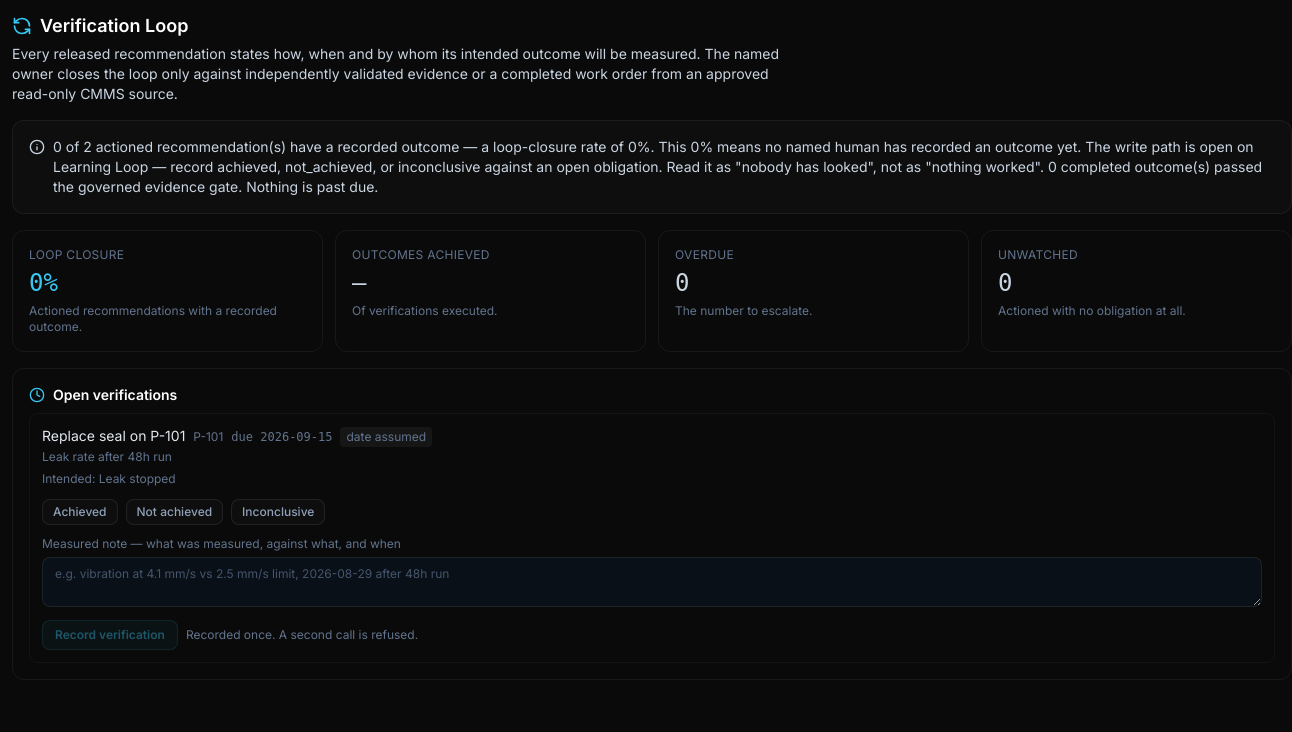
it: VerificationLoop — named-human recorder › enables submit only when both a result and a measured note are set
Check: the text "Replace seal on P-101" is shown, box [42,426,185,446]
Check: the button "Record verification" is disabled, box [42,620,178,650]
Replace the text in the text box with placeholder "vibration at 4.1 mm/s" with "vibration 2.1 mm/s vs 3.0 limit, 2026-08-29" at (652, 582), box [42,556,1262,606]
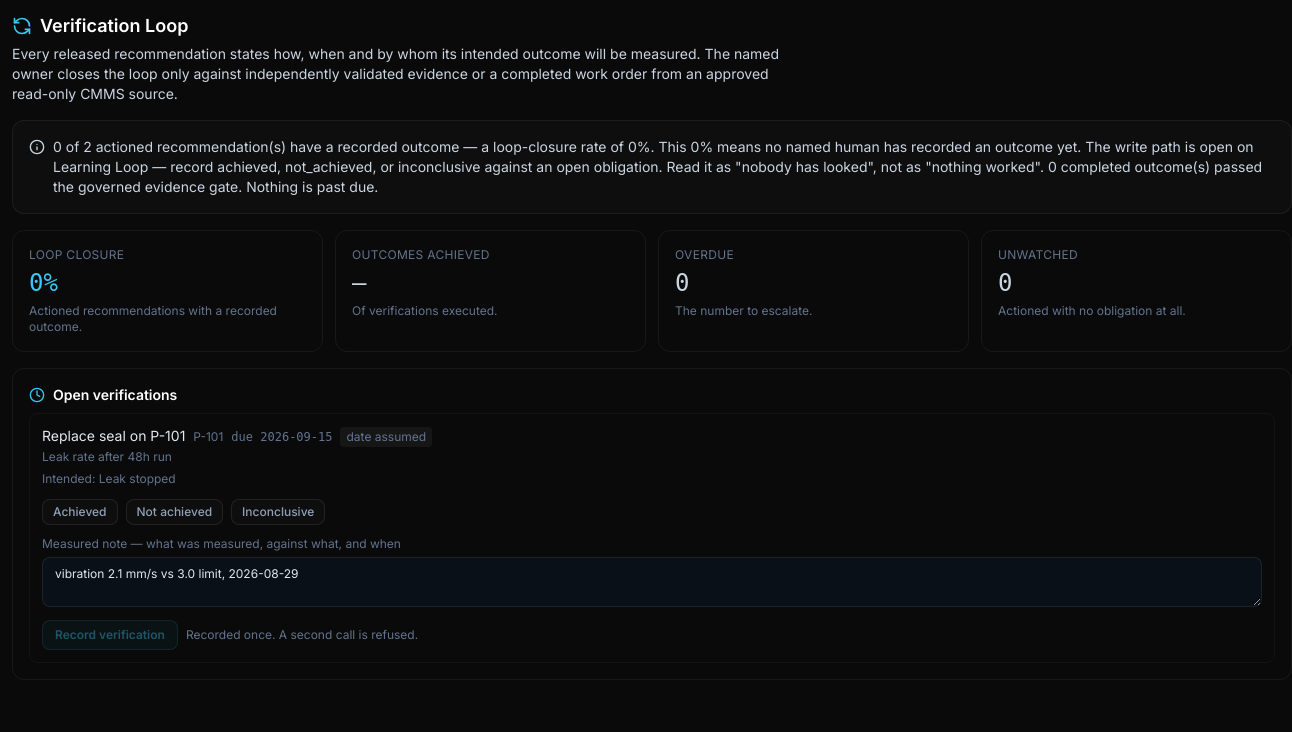
Check: the button "Record verification" is disabled, box [42,620,178,650]
Click the radio button labelled "Achieved" at (80, 512), box [42,498,118,524]
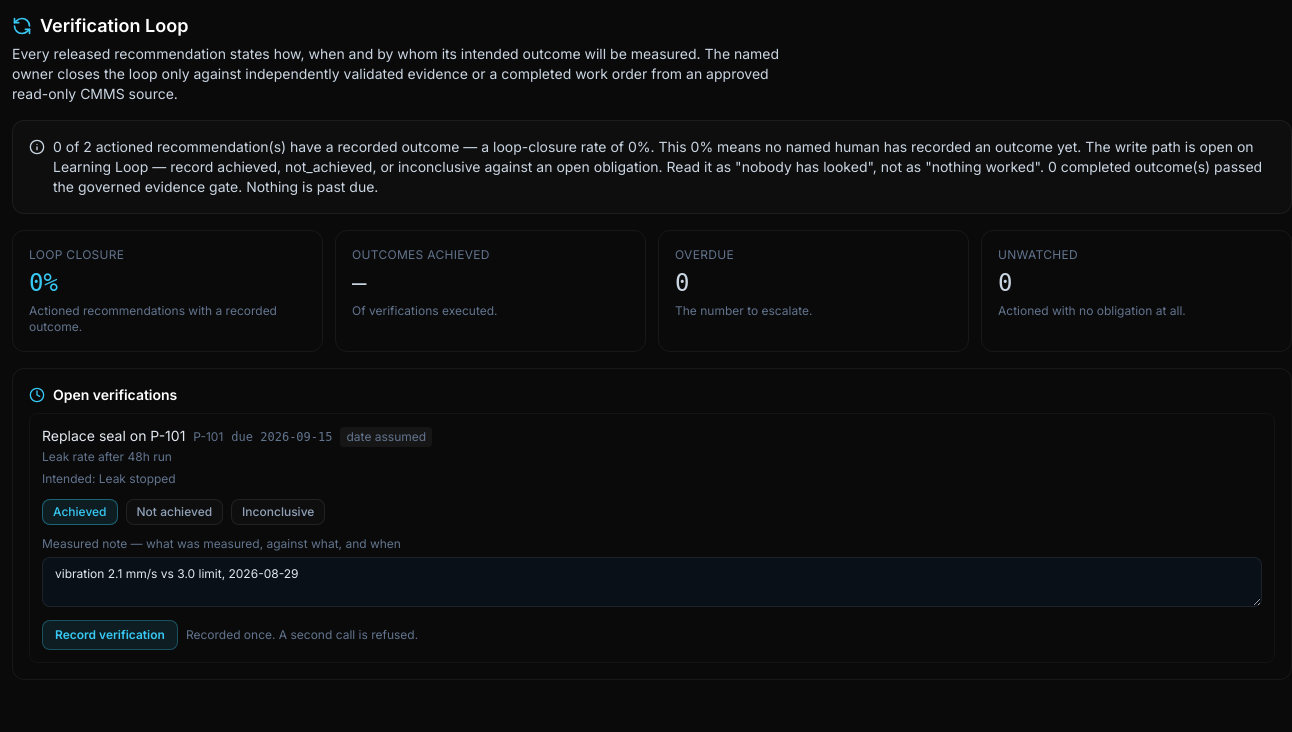
Check: the button "Record verification" is enabled, box [42,620,178,650]
